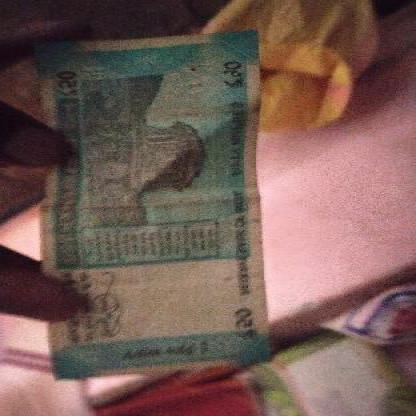New50Back: (40, 41, 263, 364)
